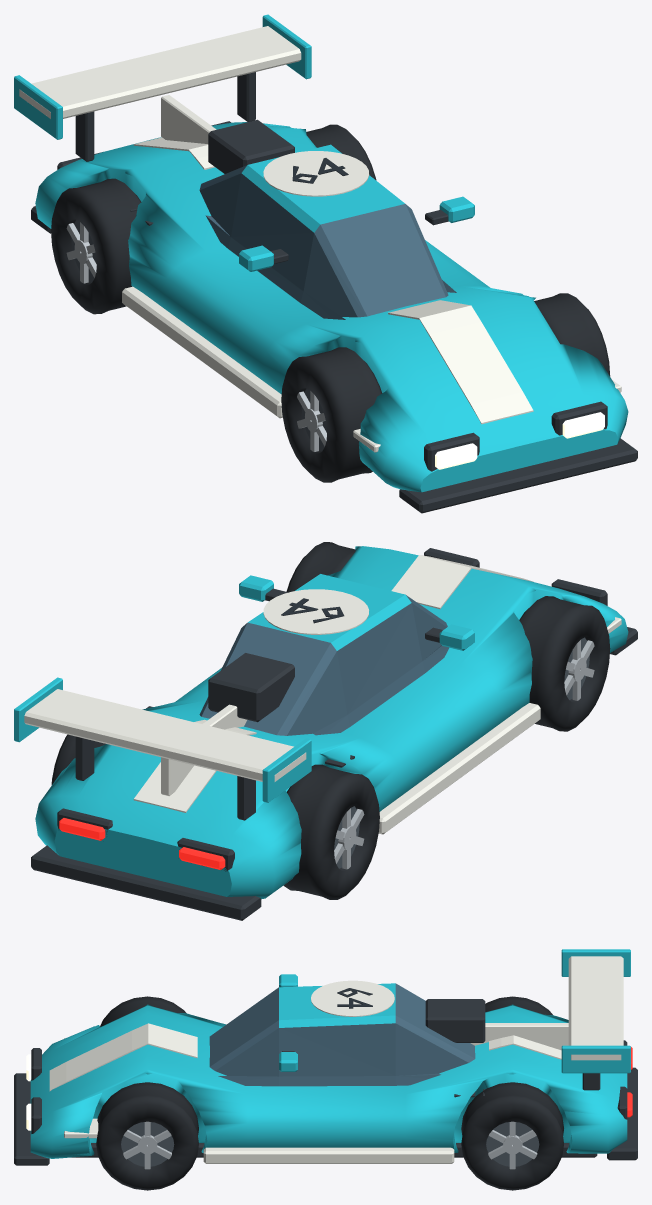
The model's file is r2-car-prototype.glb.
3 views of the same model, one above another, from view 1: azimuth 30°, elevation 25°; view 2: azimuth 150°, elevation 25°; view 3: azimuth 270°, elevation 25° (orthographic). The views are drawn at different scales.
Visible parts, largest first — view 1: r2-car-prototype-moulded-body, r2-car-prototype-greenhouse, r2-car-prototype-rear-wing, wheel-front-left, wheel-rear-left, r2-car-prototype-hood-stripe-0, r2-car-prototype-front-splitter, r2-car-prototype-side-sill--1, r2-car-prototype-roof-number-roundel, r2-car-prototype-air-intake, wheel-front-right, r2-car-prototype-spine (+11 smaller); view 2: r2-car-prototype-moulded-body, r2-car-prototype-greenhouse, r2-car-prototype-rear-wing, wheel-rear-left, wheel-front-left, r2-car-prototype-rear-diffuser, r2-car-prototype-air-intake, r2-car-prototype-side-sill--1, r2-car-prototype-roof-number-roundel, r2-car-prototype-hood-stripe-0, r2-car-prototype-deck-stripe-0, wheel-front-right (+14 smaller); view 3: r2-car-prototype-moulded-body, r2-car-prototype-greenhouse, wheel-rear-right, wheel-front-right, r2-car-prototype-rear-wing, r2-car-prototype-side-sill-1, r2-car-prototype-hood-stripe-0, r2-car-prototype-air-intake, r2-car-prototype-roof-number-roundel, r2-car-prototype-wing-endplate-1, r2-car-prototype-front-splitter, r2-car-prototype-spine (+8 smaller).
Boxes of the visible parts, x1,y1,x2,y2 form: r2-car-prototype-moulded-body: (35,122,628,492); r2-car-prototype-greenhouse: (199,144,456,319); r2-car-prototype-rear-wing: (19,26,301,118); wheel-front-left: (281,347,382,482); wheel-rear-left: (51,178,141,314); r2-car-prototype-hood-stripe-0: (388,300,533,424); r2-car-prototype-front-splitter: (399,438,637,513); r2-car-prototype-side-sill--1: (122,286,282,418); r2-car-prototype-roof-number-roundel: (263,151,369,196); r2-car-prototype-air-intake: (208,119,294,173); wheel-front-right: (534,293,610,376); r2-car-prototype-spine: (161,95,216,143); r2-car-prototype-moulded-body: (35,546,628,899); r2-car-prototype-greenhouse: (199,574,448,735); r2-car-prototype-rear-wing: (24,689,306,781); wheel-rear-left: (283,764,379,899); wheel-front-left: (519,596,610,731); r2-car-prototype-rear-diffuser: (31,845,261,920); r2-car-prototype-air-intake: (208,653,294,722); r2-car-prototype-side-sill--1: (378,703,540,834); r2-car-prototype-roof-number-roundel: (263,589,369,634); r2-car-prototype-hood-stripe-0: (391,555,533,609); r2-car-prototype-deck-stripe-0: (133,719,256,812); wheel-front-right: (286,542,355,592); r2-car-prototype-moulded-body: (30,1004,627,1158); r2-car-prototype-greenhouse: (209,983,475,1086); wheel-rear-right: (461,1082,563,1190); wheel-front-right: (96,1082,198,1190); r2-car-prototype-rear-wing: (568,956,623,1060); r2-car-prototype-side-sill-1: (203,1147,454,1163); r2-car-prototype-hood-stripe-0: (49,1023,197,1091); r2-car-prototype-air-intake: (425,999,485,1042); r2-car-prototype-roof-number-roundel: (311,980,394,1016); r2-car-prototype-wing-endplate-1: (561,1045,630,1073); r2-car-prototype-front-splitter: (14,1073,49,1165); r2-car-prototype-spine: (470,1023,568,1050).
Size of the model in its own units: 1.04 by 0.6675 by 2.62.
